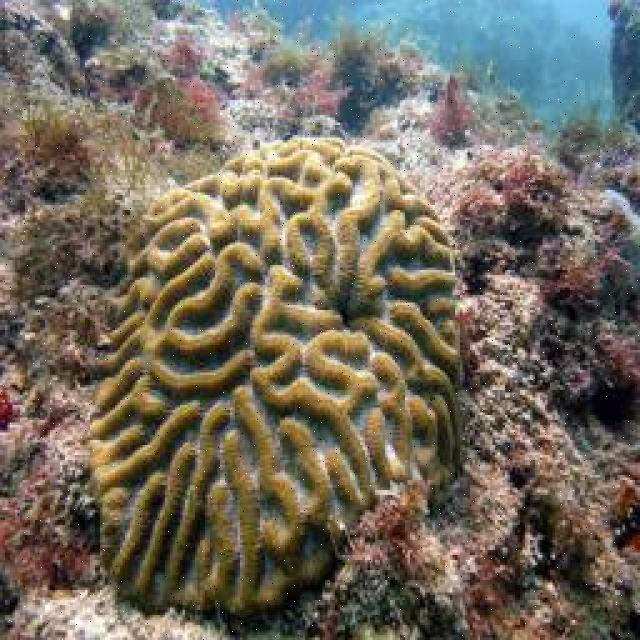reefs: (83, 136, 468, 614)
